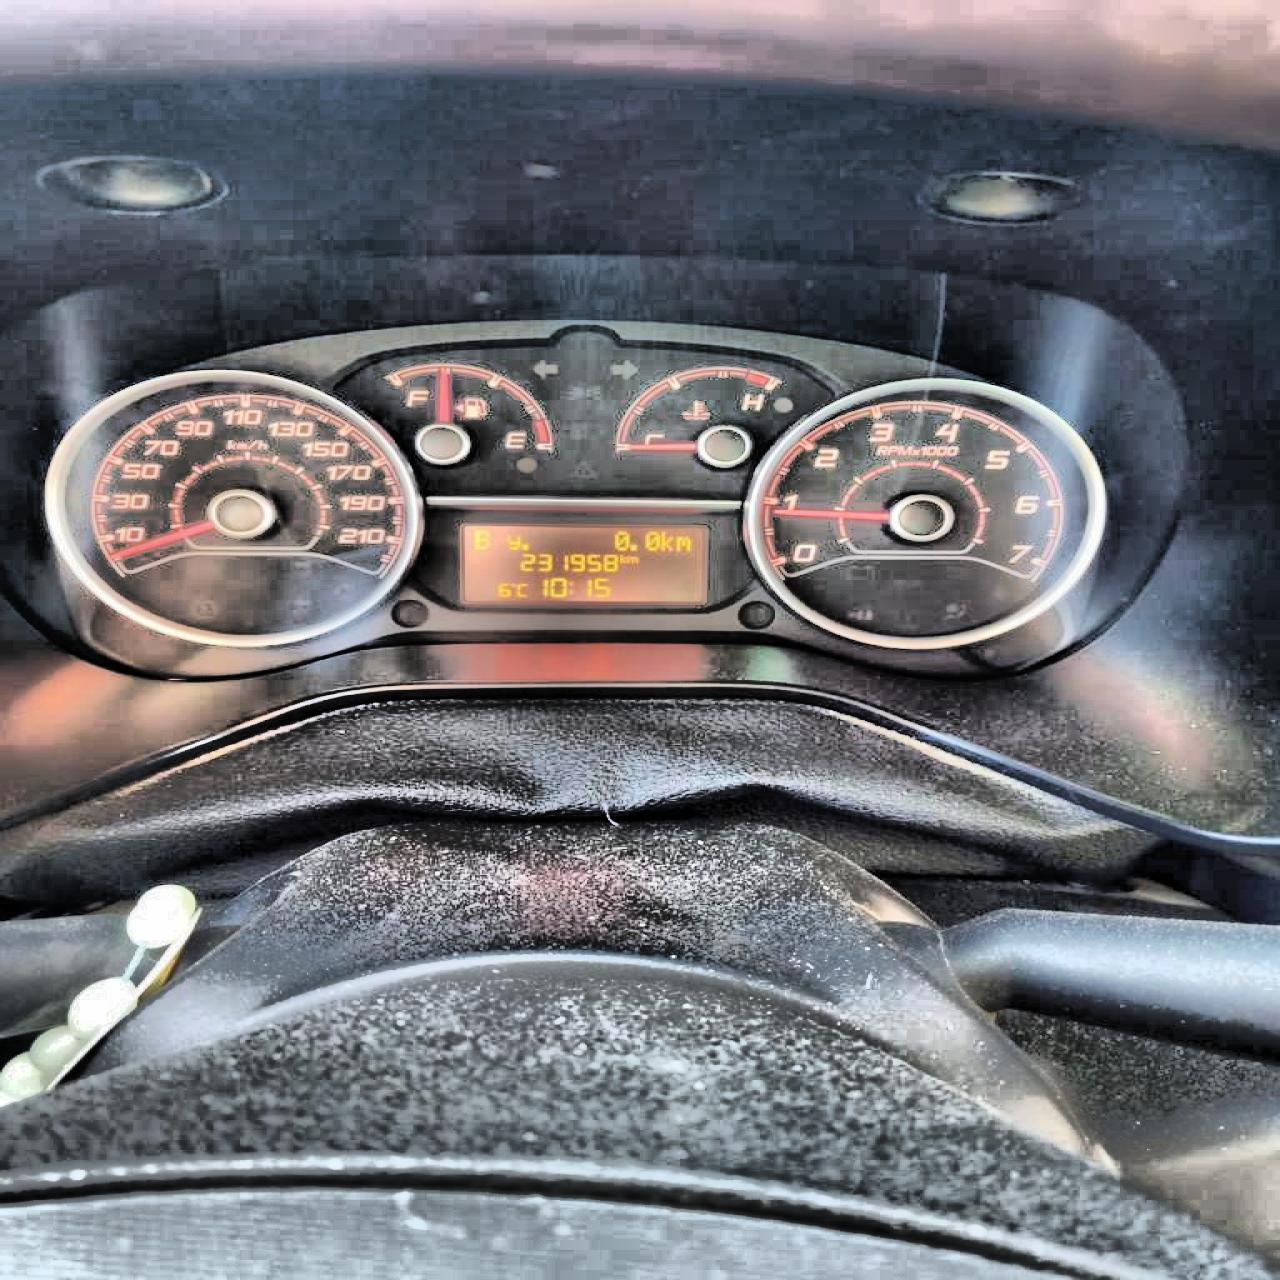-: (519, 542, 529, 550), (628, 543, 636, 551)
0: (546, 576, 566, 595), (612, 529, 628, 550), (644, 530, 659, 551)
1: (539, 576, 549, 595), (585, 578, 592, 597), (561, 553, 568, 571)
2: (518, 552, 535, 572)
3: (536, 552, 552, 572)
5: (592, 576, 611, 595), (585, 552, 601, 572)
6: (497, 581, 511, 597)
8: (601, 553, 617, 571)
9: (568, 553, 585, 571)
X: (659, 529, 674, 550), (673, 535, 689, 551), (505, 535, 520, 550), (516, 581, 526, 597), (625, 554, 639, 564), (618, 552, 627, 564), (567, 579, 573, 593)
odometer: (457, 523, 713, 607)
